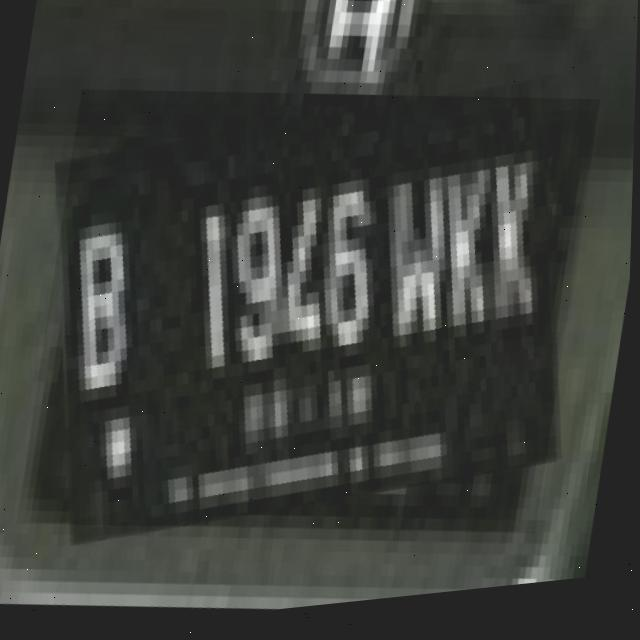LicensePlate: (18, 49, 602, 587)
